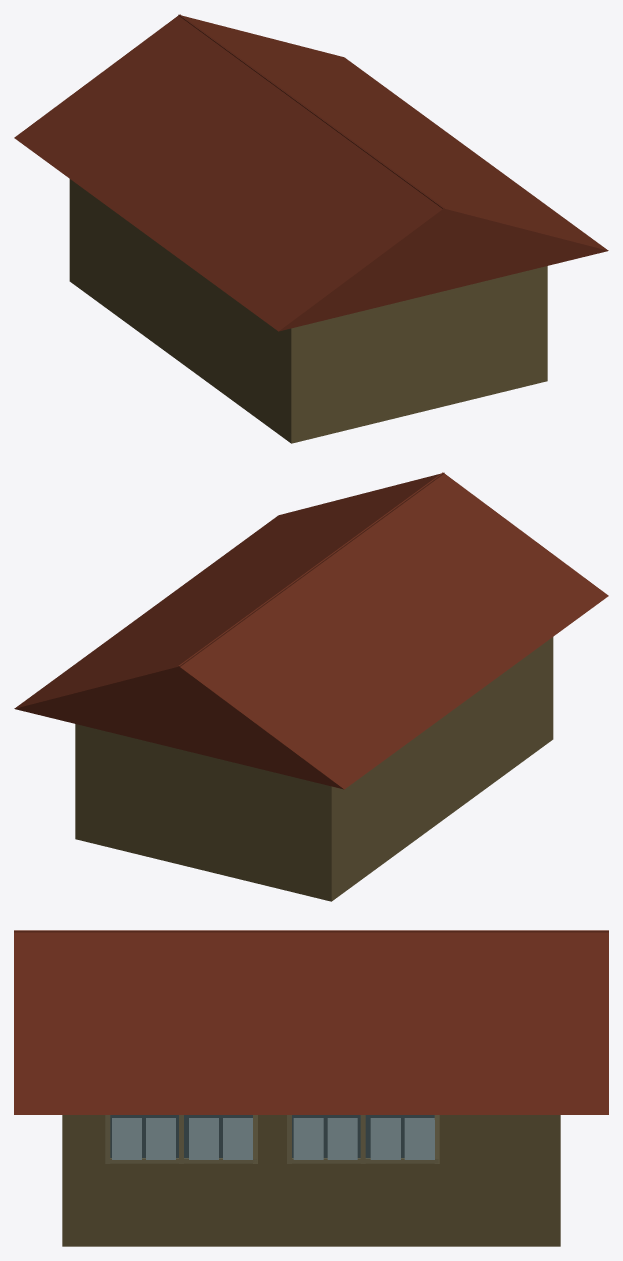
Rendered from gym.fbx.
The picture shows the model from 3 angles, top to bottom: view 1: azimuth 30°, elevation 25°; view 2: azimuth 150°, elevation 25°; view 3: azimuth 270°, elevation 25°; orthographic projection. The views are drawn at different scales.
Visible parts, largest first — view 1: Cube.001, Cube; view 2: Cube.001, Cube; view 3: Cube.001, Cube, Cube.009, Cube.005, Cube.007.
Boxes of the visible parts, x1=… form: Cube.001: x1=14, y1=14, x2=608, y2=331; Cube: x1=69, y1=179, x2=547, y2=443; Cube.001: x1=14, y1=472, x2=608, y2=789; Cube: x1=75, y1=637, x2=553, y2=901; Cube.001: x1=14, y1=930, x2=608, y2=1114; Cube: x1=62, y1=1115, x2=560, y2=1246; Cube.009: x1=112, y1=1118, x2=434, y2=1159; Cube.005: x1=110, y1=1115, x2=434, y2=1158; Cube.007: x1=105, y1=1115, x2=438, y2=1163.
Bounding box in the file's own units: 2427 × 1540 × 3365.
